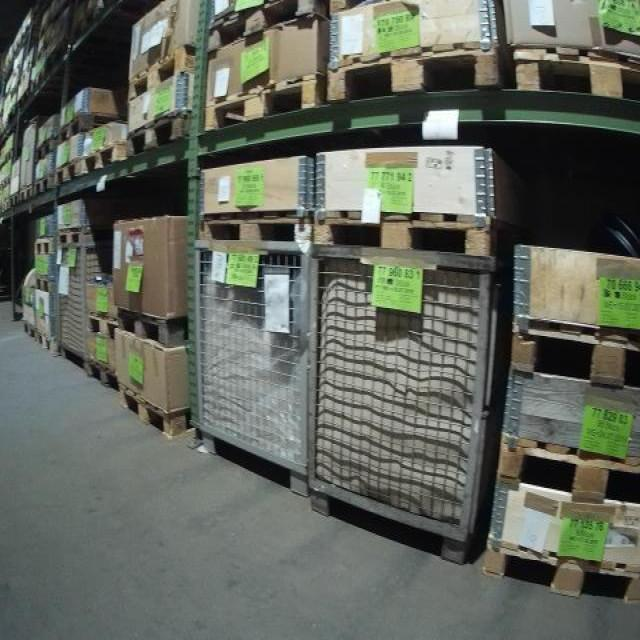pallet: (473, 537, 640, 606), (327, 38, 497, 105), (490, 435, 640, 506), (312, 209, 514, 260), (507, 318, 640, 393), (203, 72, 326, 135), (502, 44, 640, 100), (206, 1, 329, 56), (116, 384, 194, 439), (128, 43, 198, 101), (198, 209, 312, 241), (125, 108, 192, 161), (114, 306, 190, 348), (58, 108, 123, 146), (81, 140, 126, 176), (85, 359, 121, 391), (85, 315, 119, 340), (54, 158, 83, 187), (35, 136, 58, 163), (56, 228, 84, 248), (32, 174, 54, 198), (36, 331, 56, 354), (32, 236, 53, 256), (34, 274, 54, 292), (20, 184, 34, 204), (21, 323, 37, 340), (10, 192, 20, 208)
stillage: (310, 242, 498, 568), (182, 227, 309, 513), (50, 238, 116, 377)
